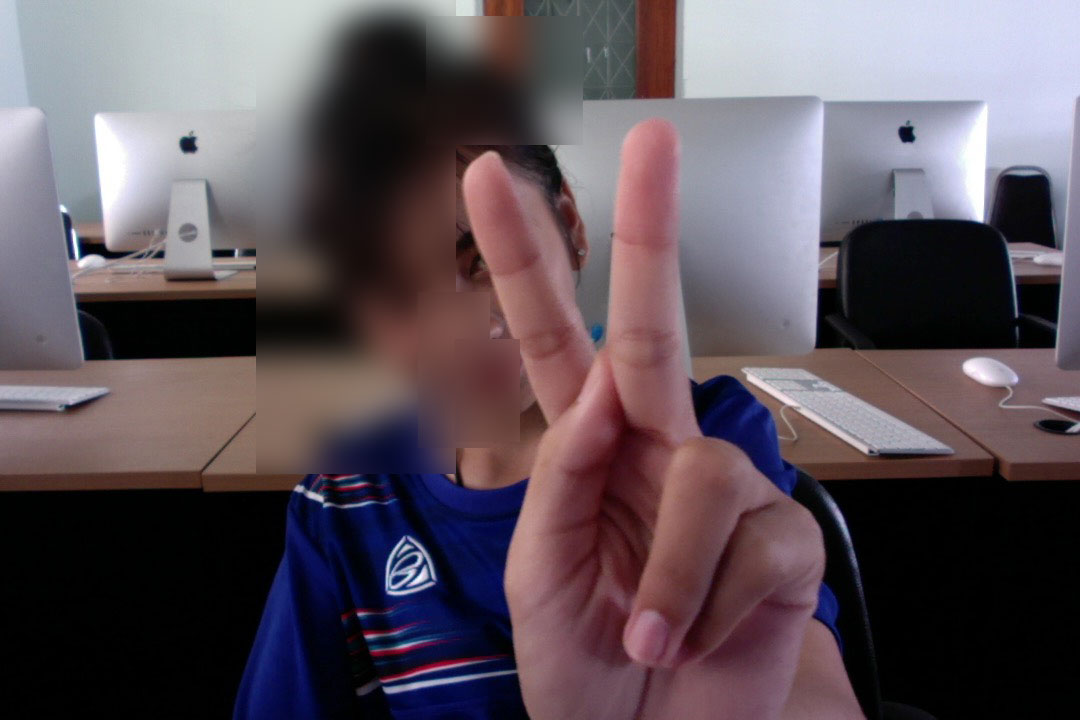ko: (441, 100, 849, 718)
